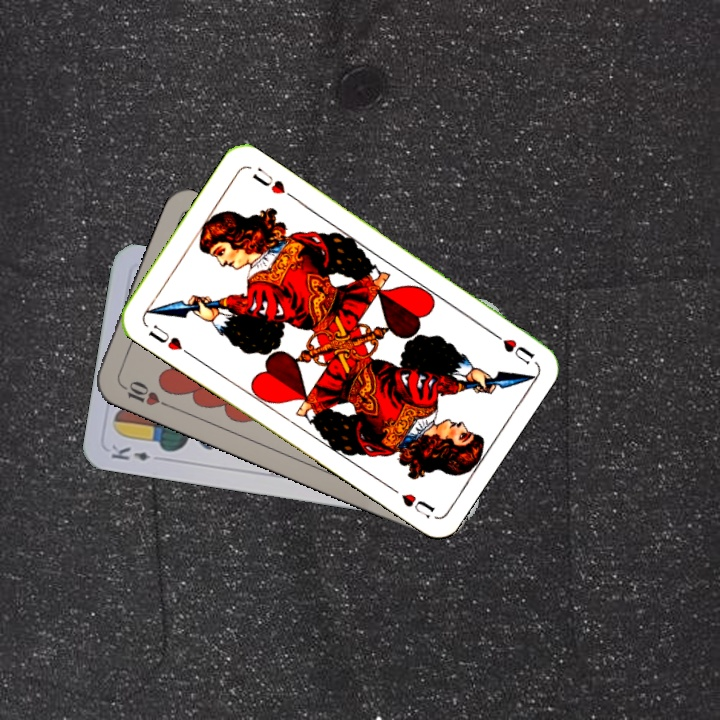EK: (107, 440, 153, 463)
H10: (116, 377, 172, 410)
HU: (485, 326, 537, 367), (143, 320, 194, 358)
